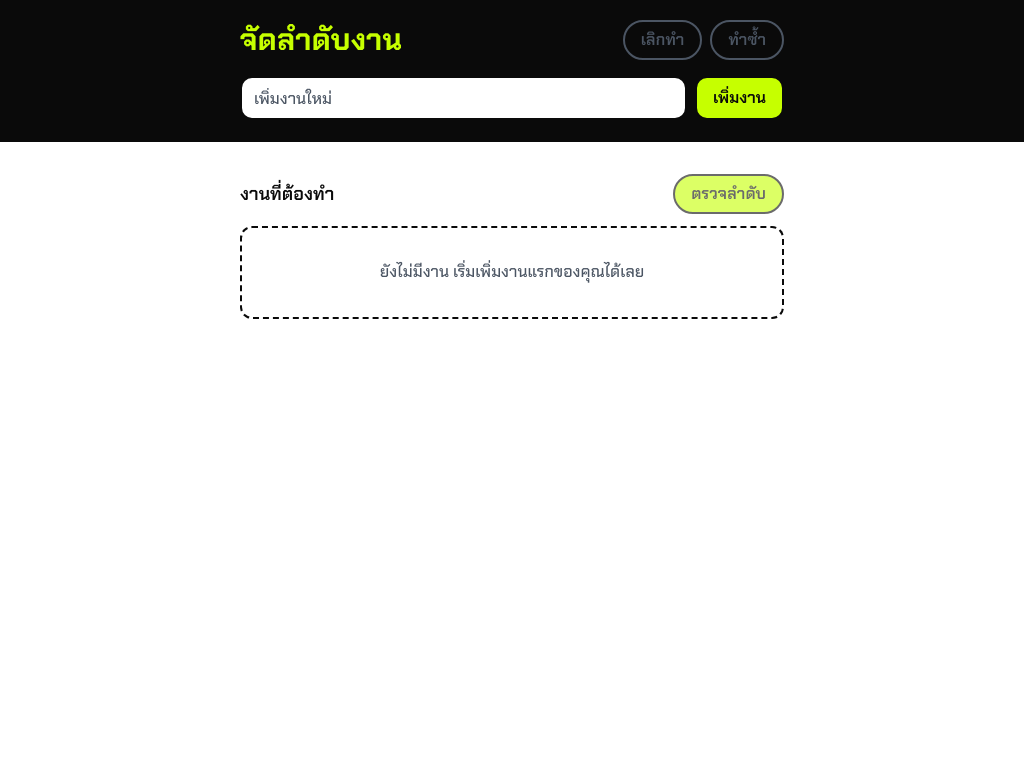
Test: review mode (slice 1) › AC-6.2 the mode replaces the page: dialog with question, two cards, counter, skip, close — no text box, list or done section
This screenshot has width=1024, height=768.
Type "A" into the field labelled "เพิ่มงานใหม่" at [464, 98], box [240,76,687,120]
Then press Enter
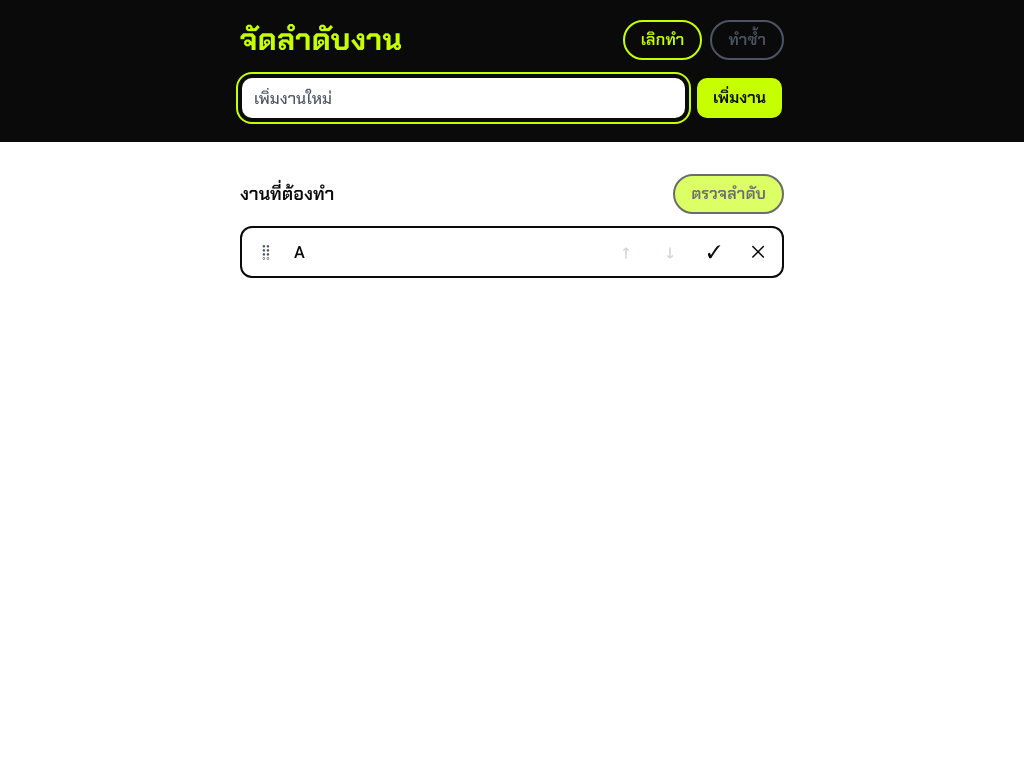
Type "B" into the field labelled "เพิ่มงานใหม่" at [464, 98], box [240,76,687,120]
Then press Enter
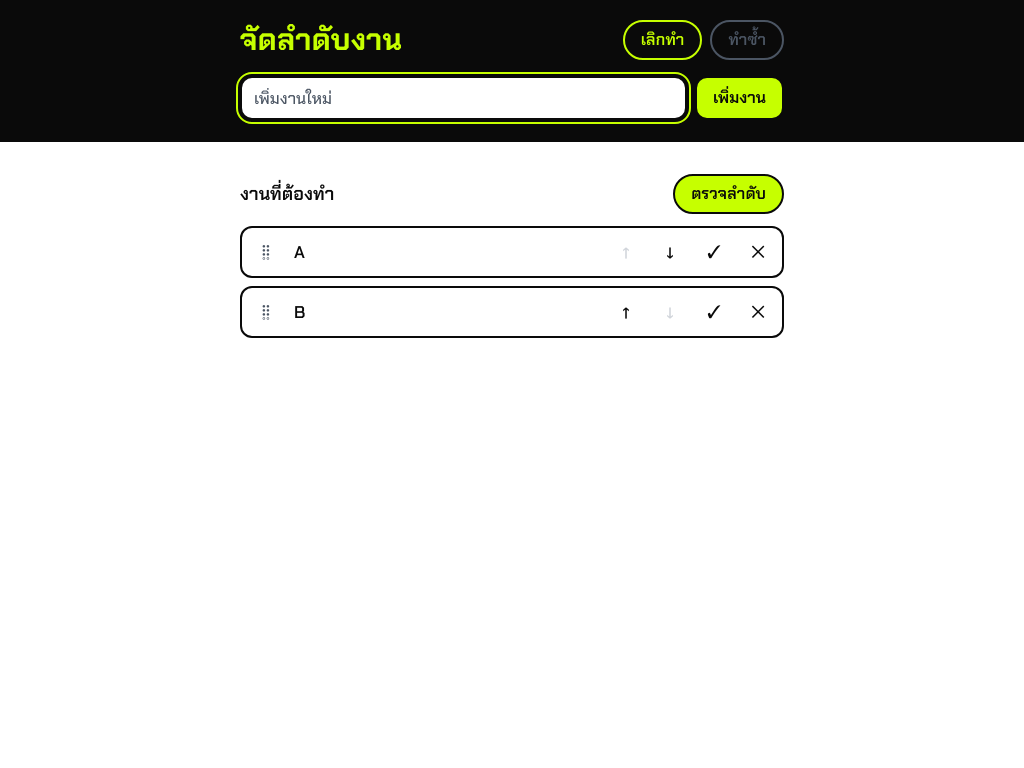
Type "C" into the field labelled "เพิ่มงานใหม่" at [464, 98], box [240,76,687,120]
Then press Enter
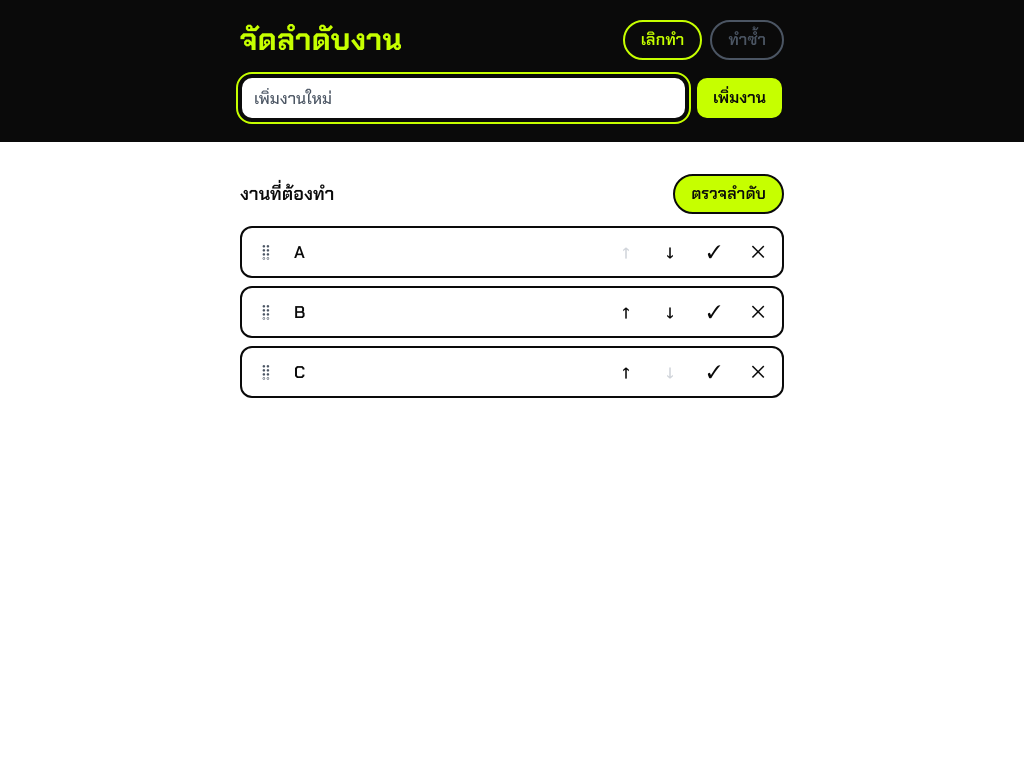
Type "X" into the field labelled "เพิ่มงานใหม่" at [464, 98], box [240,76,687,120]
Then press Enter
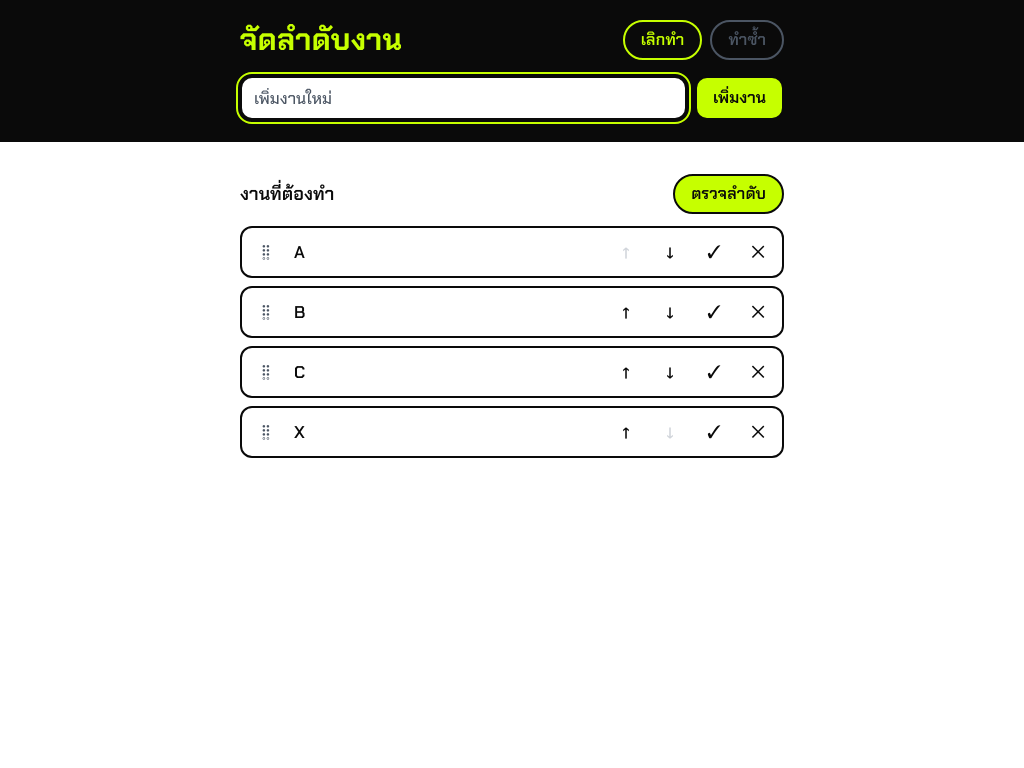
Click the 4th button "✓" at [714, 432], box [694,412,734,452]
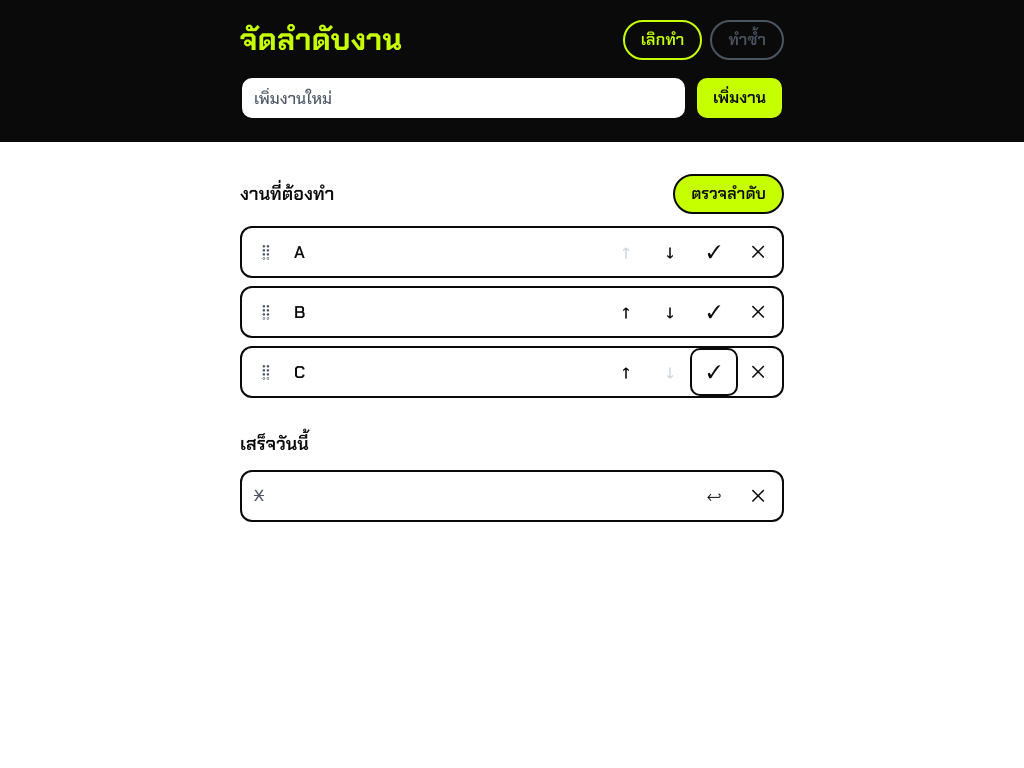
Expected: the heading "เสร็จวันนี้" is shown, [240,432,309,456]
Click the button "ตรวจลำดับ" at [729, 194], box [673,174,784,214]
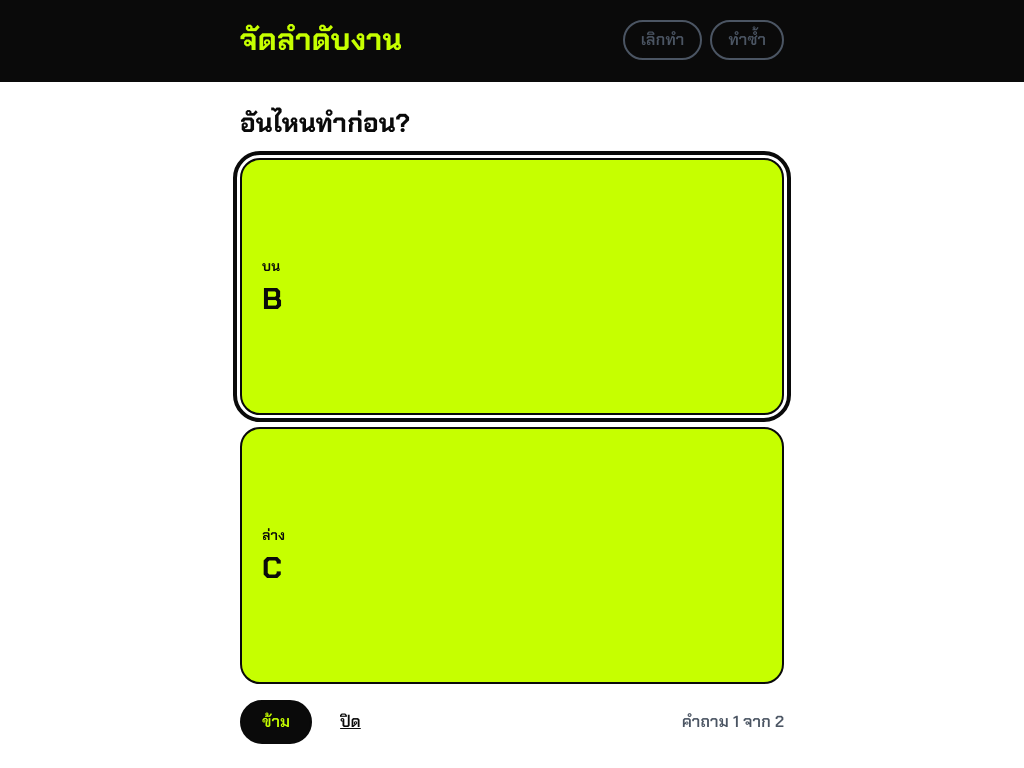
Expected: the field is gone
Expected: the list is gone
Expected: the heading "เสร็จวันนี้" is gone
